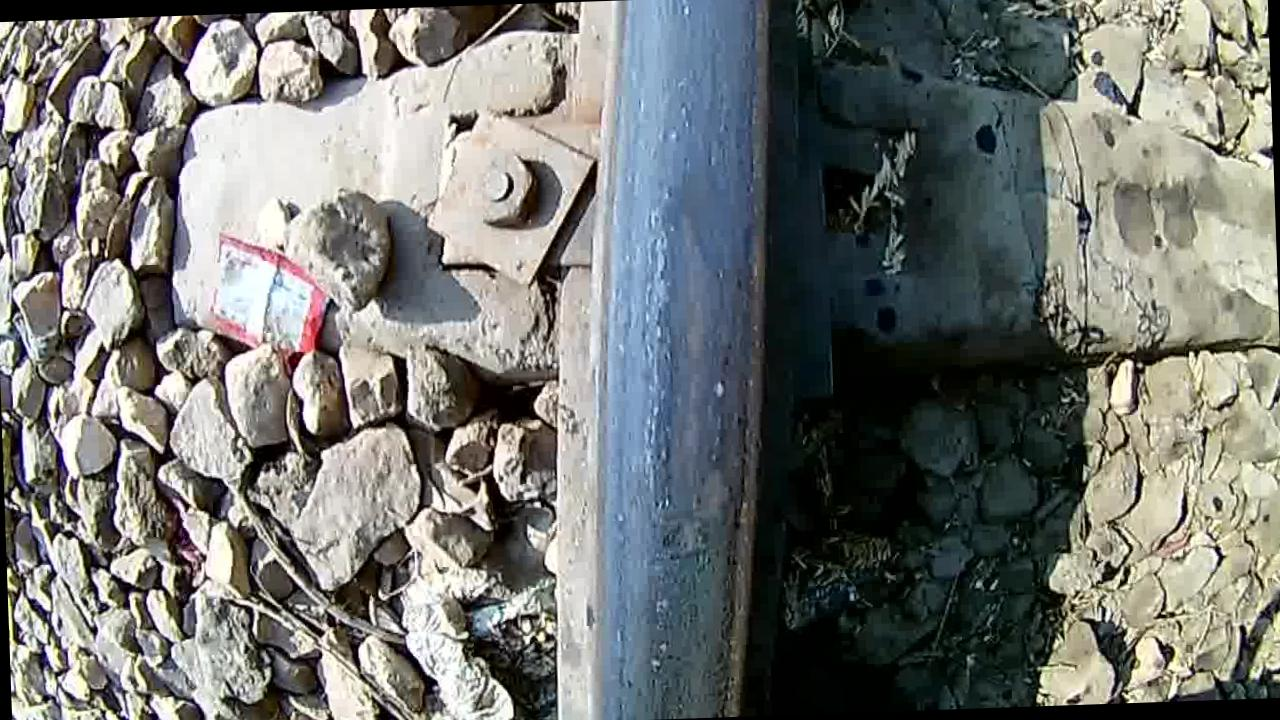bolt_missing: (588, 153, 780, 700)
